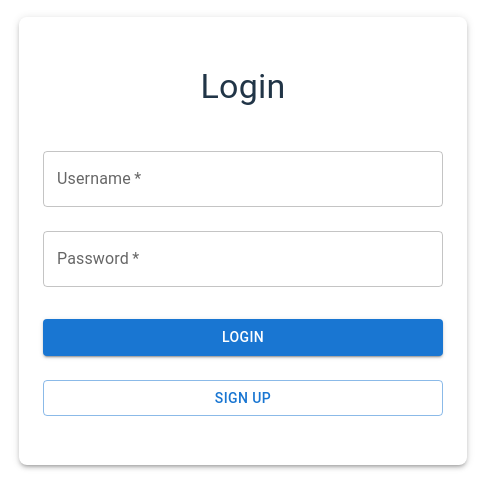
Test: Login Frontend Unit Tests › FUT9 - Login API error
Type "validUser" into the field labelled "Username *".
click(243, 179); type("validUser")  # box [43,151,443,207]
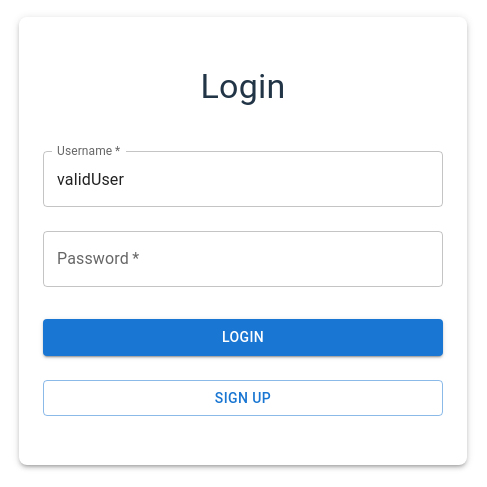
Type "validPass1!" into the field labelled "Password *".
click(243, 259); type("validPass1!")  # box [43,231,443,287]
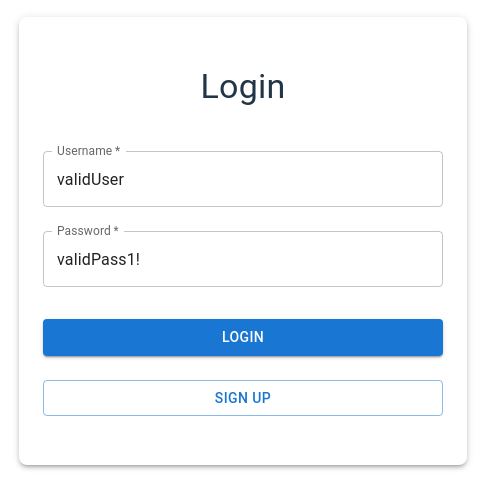
Click the button "Login".
click(243, 338)  # box [43,319,443,356]
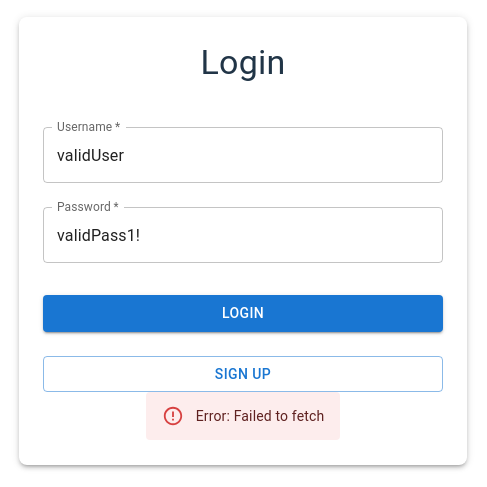
Expected: the text "Error: Failed to fetch" is shown, [196,408,324,424]
